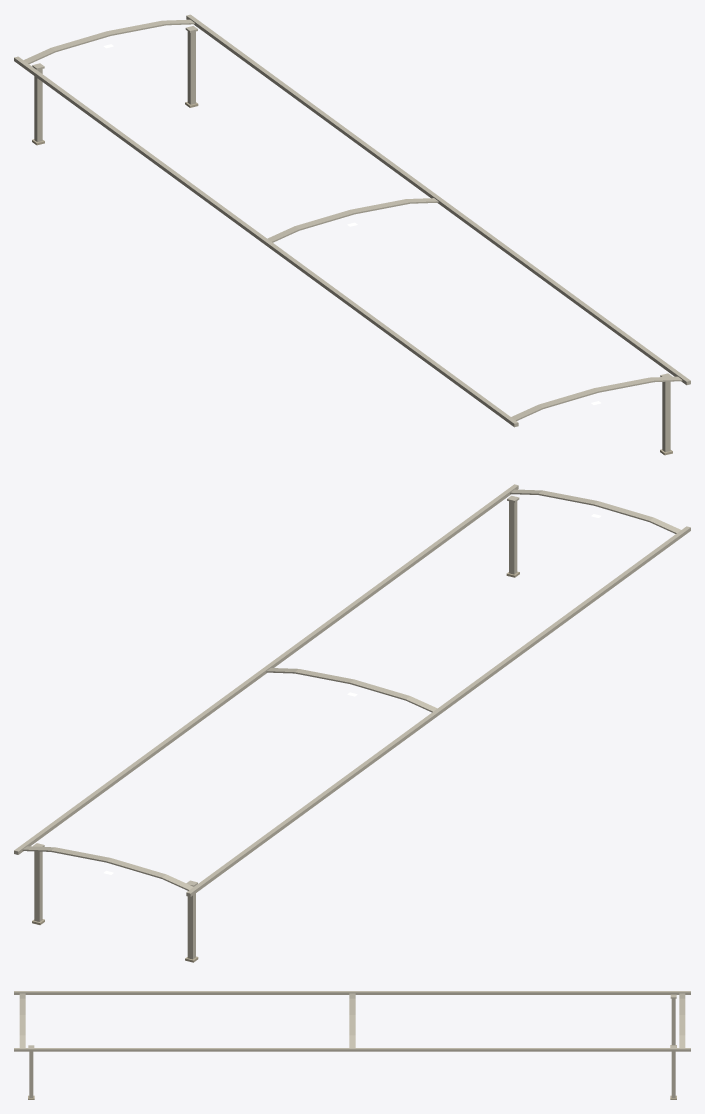
File: COURT_D09_SA_01__shell.glb
The picture shows the model from 3 angles, top to bottom: view 1: azimuth 30°, elevation 25°; view 2: azimuth 150°, elevation 25°; view 3: azimuth 270°, elevation 25°; orthographic projection. The views are drawn at different scales.
Visible parts, largest first — view 1: COURT_D09_SA_01__shell__ivory_enamel; view 2: COURT_D09_SA_01__shell__ivory_enamel; view 3: COURT_D09_SA_01__shell__ivory_enamel.
Boxes of the visible parts, <box> form: COURT_D09_SA_01__shell__ivory_enamel: <box>14,14,690,452</box>; COURT_D09_SA_01__shell__ivory_enamel: <box>14,484,690,959</box>; COURT_D09_SA_01__shell__ivory_enamel: <box>14,991,690,1097</box>.
Size of the model in its own units: 15.9 by 7.42 by 78.
3 materials, 2 textured.
